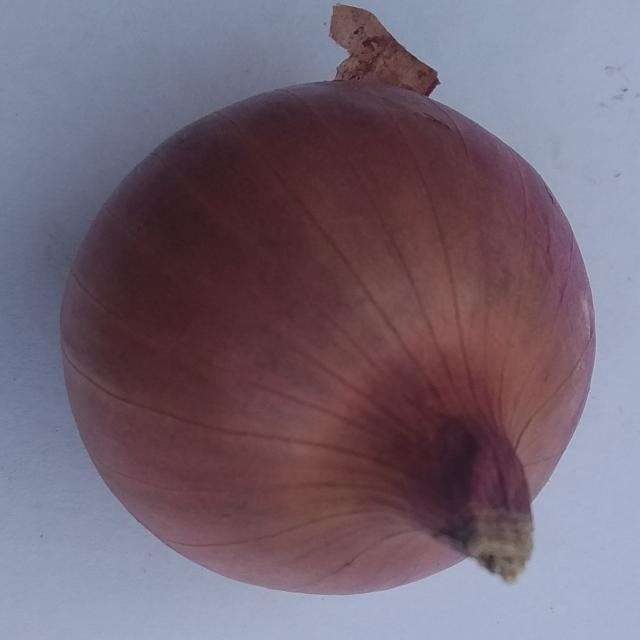onion: (61, 4, 596, 600)
